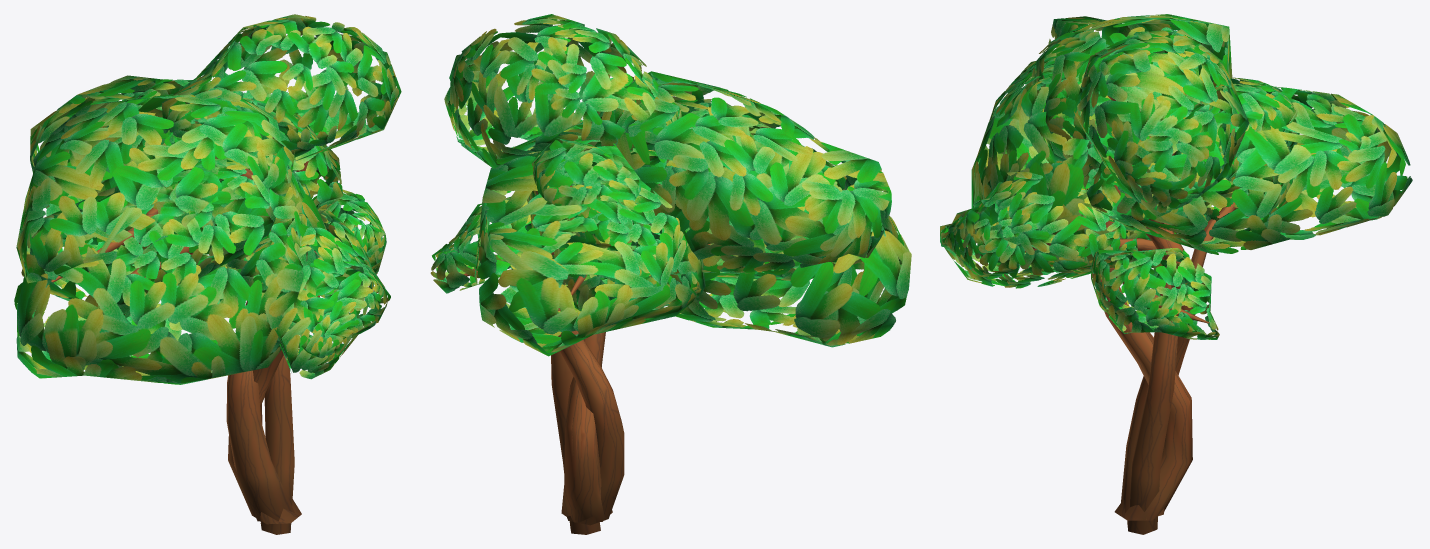
The model's file is ChTree.fbx.
3 renders of one model, left to right at view 1: azimuth 30°, elevation 25°; view 2: azimuth 150°, elevation 25°; view 3: azimuth 270°, elevation 25°, orthographic. The views are drawn at different scales.
Visible parts, largest first — view 1: ChTree_01, ChTree_03, ChTree_02; view 2: ChTree_01, ChTree_03, ChTree_02; view 3: ChTree_02, ChTree_01, ChTree_03.
Part boxes in pixels (x1,y1,x2,y2): ChTree_01: [14, 14, 401, 521]; ChTree_03: [16, 79, 374, 534]; ChTree_02: [30, 75, 390, 524]; ChTree_01: [444, 14, 911, 525]; ChTree_03: [527, 71, 891, 534]; ChTree_02: [430, 121, 705, 522]; ChTree_02: [940, 83, 1412, 520]; ChTree_01: [971, 29, 1292, 519]; ChTree_03: [944, 14, 1299, 534].
Size of the model in its own units: 363 by 416 by 363.
Materials: 1 (1 with a texture image).
